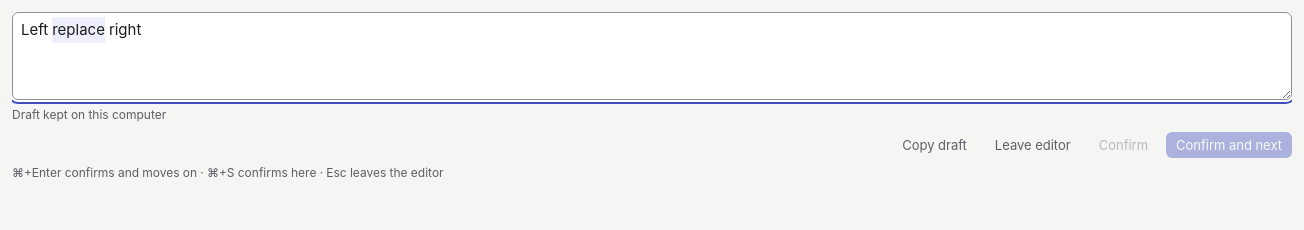
clears stale paste feedback when ordinary typing continues after cancellation
The width and height of the screenshot is (1304, 230).
Replace the text in the text box named "Translation for dialogue.hello" with "Newer B" at [652, 56], box [12,12,1292,100]
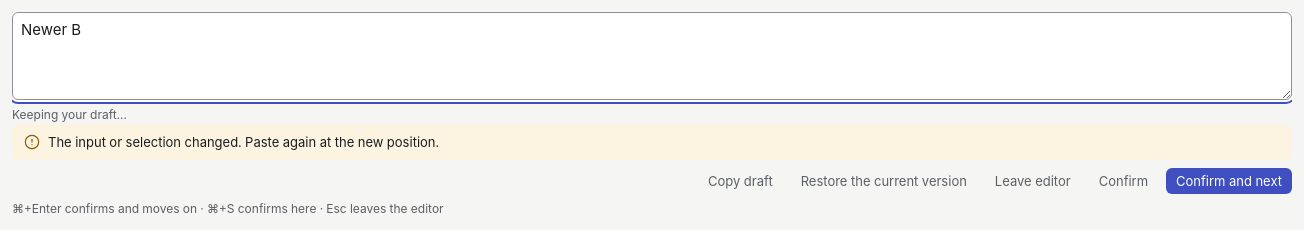
Now the text "The input or selection changed. Paste again at the new position." is shown, box [48,134,439,150]
Replace the text in the text box named "Translation for dialogue.hello" with "Newer B, still typing" at [652, 56], box [12,12,1292,100]
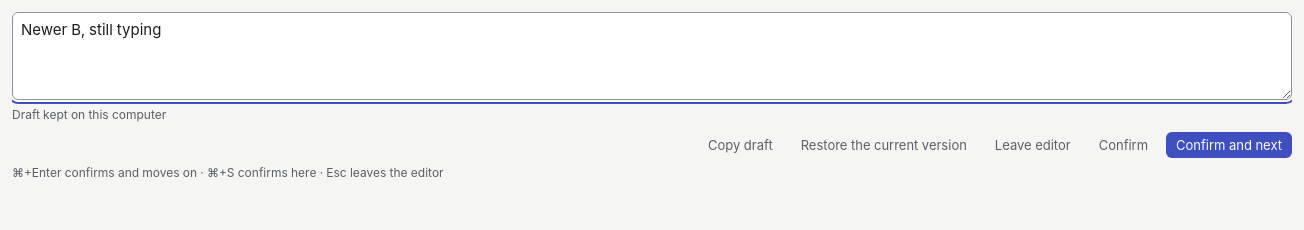
Now the text "The input or selection changed. Paste again at the new position." is gone
